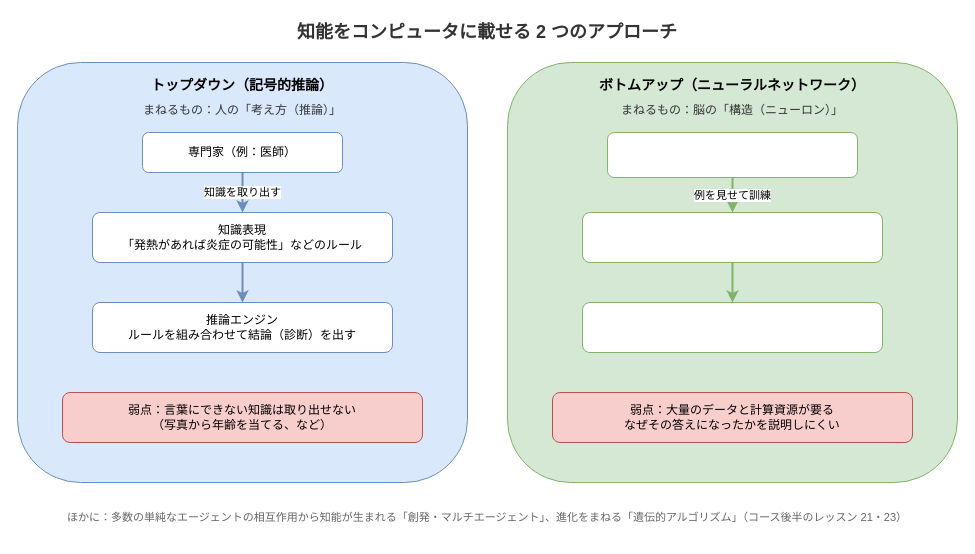
Image size: 975x554. Some labels were removed from this diagram. Each missing label, with the centre of its shape:
"ニューロンのネットワーク 各ニューロンは入力の重み付き和を計算するだけ" goes at (732,237).
"大量の例（学習データ） 写真と年齢のペアなど" goes at (732,155).
"学習済みモデル ルールを書かずに答えを出せる" goes at (732,327).
